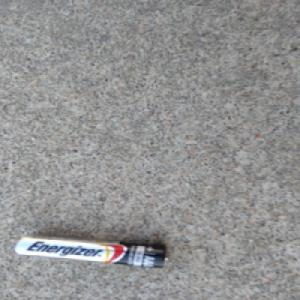Battery: (13, 234, 169, 268)
